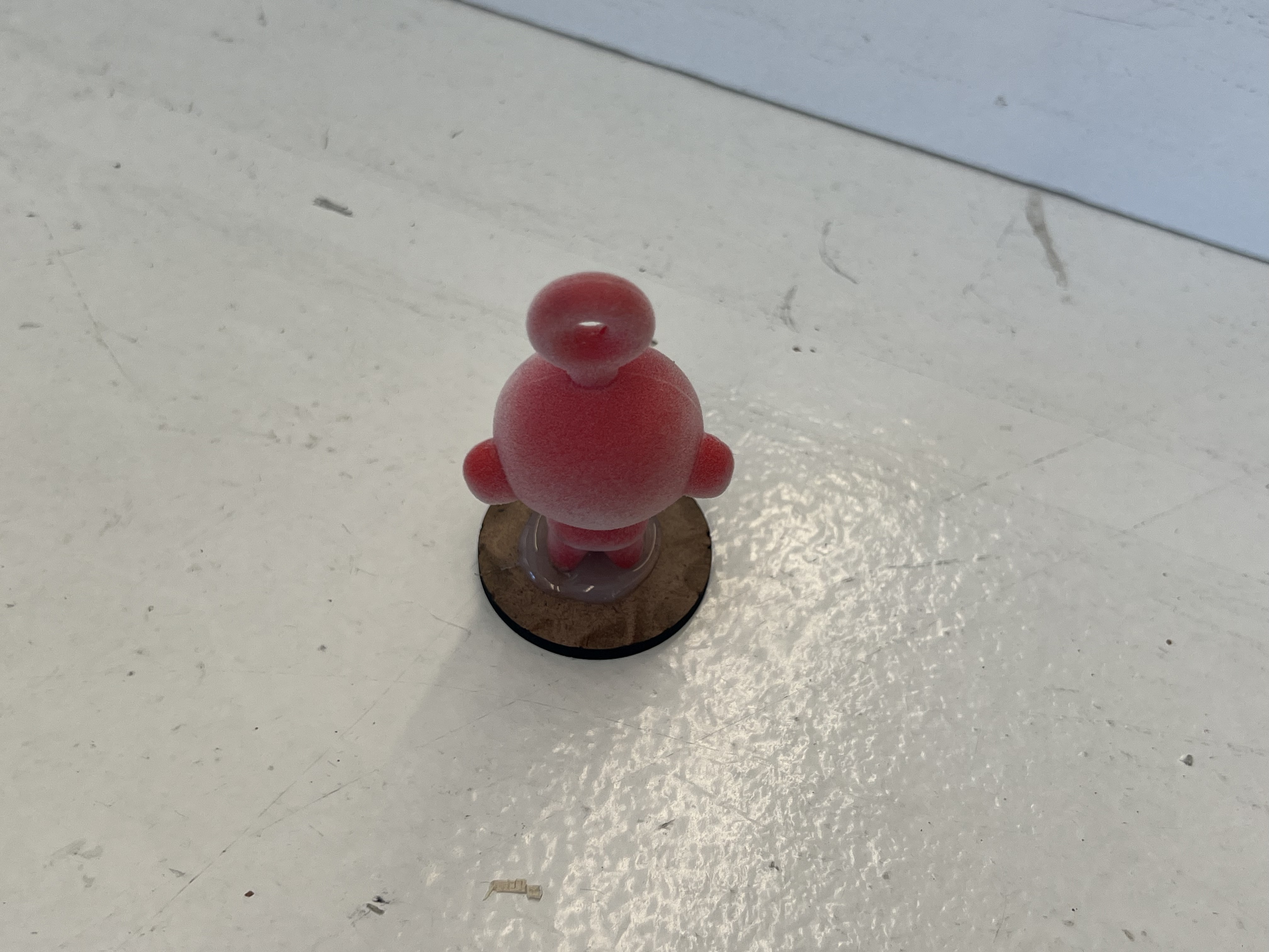teletubby: (464, 273, 733, 574)
